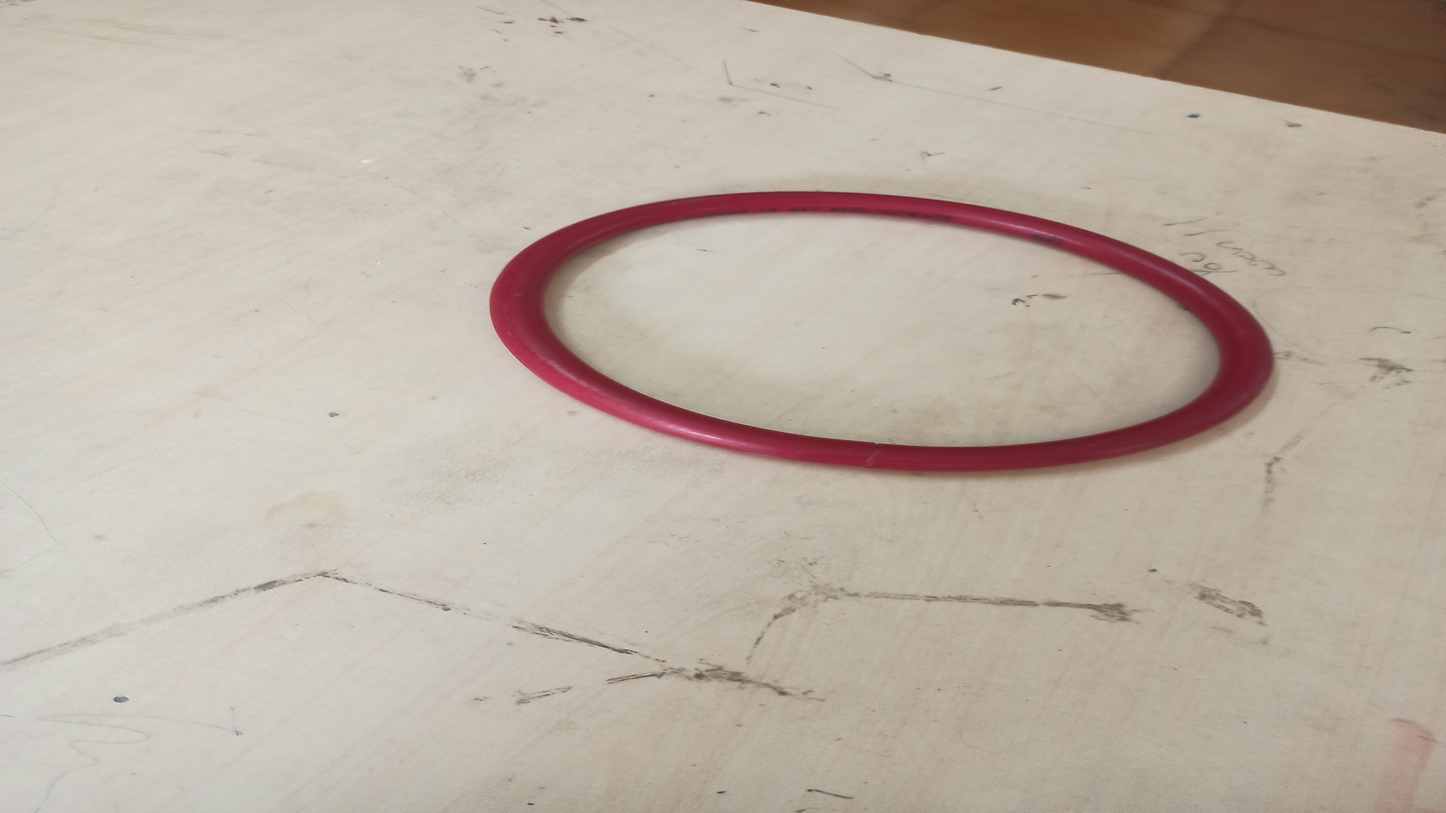Red ring: (489, 190, 1275, 474)
